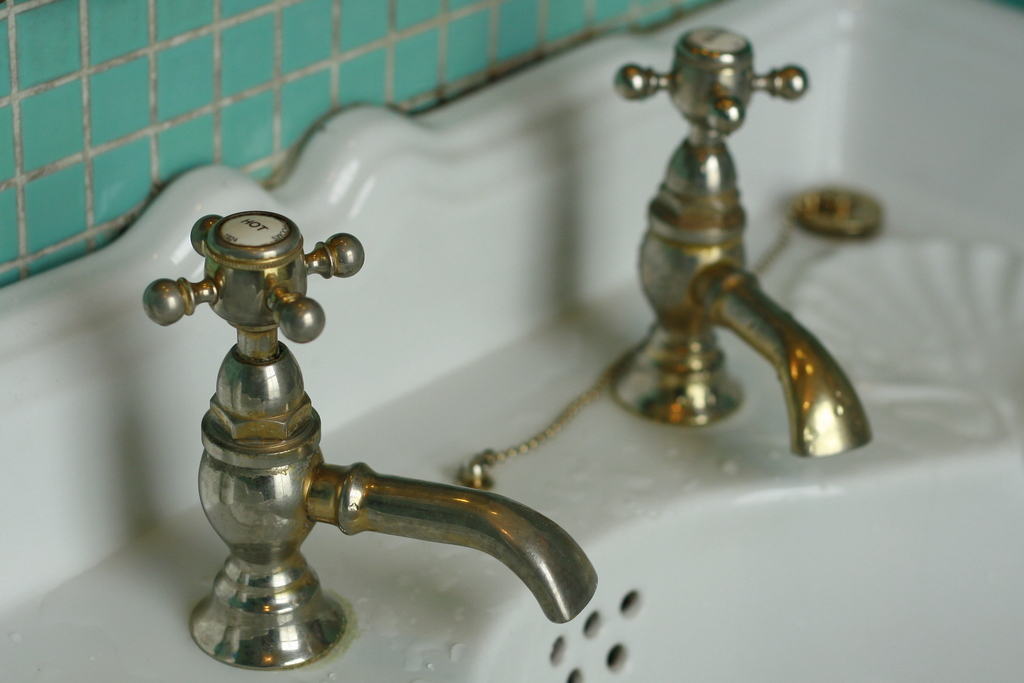tap: (138, 210, 602, 666), (612, 17, 876, 465)
